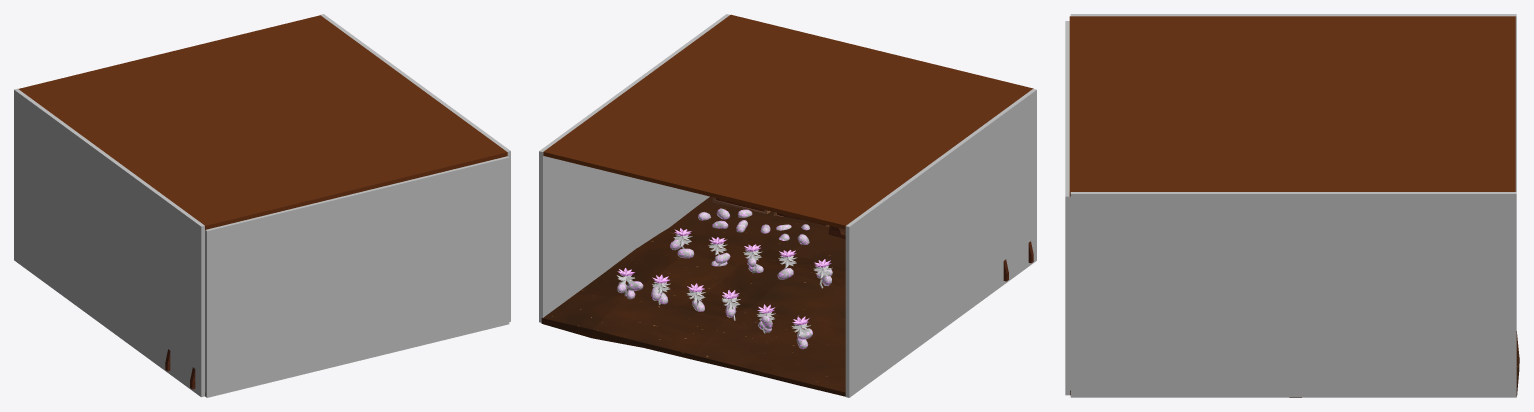
Rendered from FarmRoom3_3.fbx.
3 renders of one model, left to right at view 1: azimuth 30°, elevation 25°; view 2: azimuth 150°, elevation 25°; view 3: azimuth 270°, elevation 25°, orthographic. The views are drawn at different scales.
Visible parts, largest first — view 1: DirtyCeiling.002, SideWall1.009, SideWall1.002, SideWall1.008; view 2: DirtyCeiling.002, SideWall1.002, DirtyGround.002, SideWall1.008, PotatoPlantPart.002; view 3: SideWall1.008, DirtyCeiling.002, SideWall1.009, SideWall1.002.
Part boxes in pixels (<box>): DirtyCeiling.002: <box>18,15,507,229</box>; SideWall1.009: <box>205,156,509,397</box>; SideWall1.002: <box>14,88,204,397</box>; SideWall1.008: <box>320,14,510,321</box>; DirtyCeiling.002: <box>543,14,1033,229</box>; SideWall1.002: <box>845,89,1036,397</box>; DirtyGround.002: <box>541,196,845,396</box>; SideWall1.008: <box>539,14,729,322</box>; PotatoPlantPart.002: <box>617,228,832,335</box>; SideWall1.008: <box>1070,192,1516,397</box>; DirtyCeiling.002: <box>1069,16,1515,196</box>; SideWall1.009: <box>1065,21,1070,395</box>; SideWall1.002: <box>1070,14,1516,191</box>.
Size of the model in its own units: 522 by 278 by 551.
